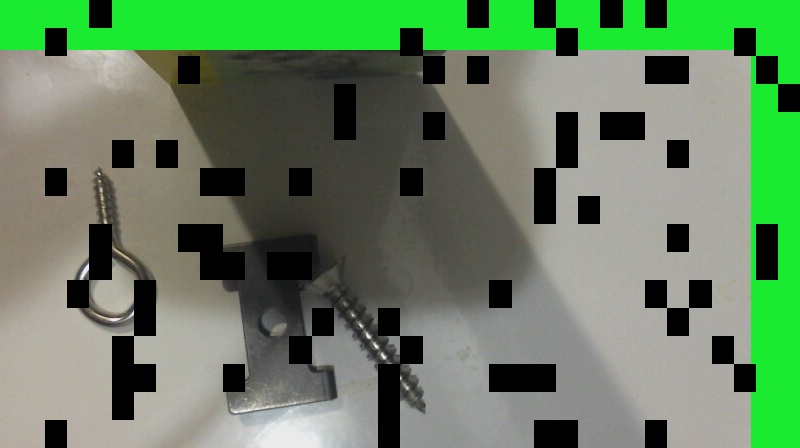O001: (63, 161, 153, 330)
O002: (206, 231, 338, 416)
S001: (301, 248, 430, 414)
